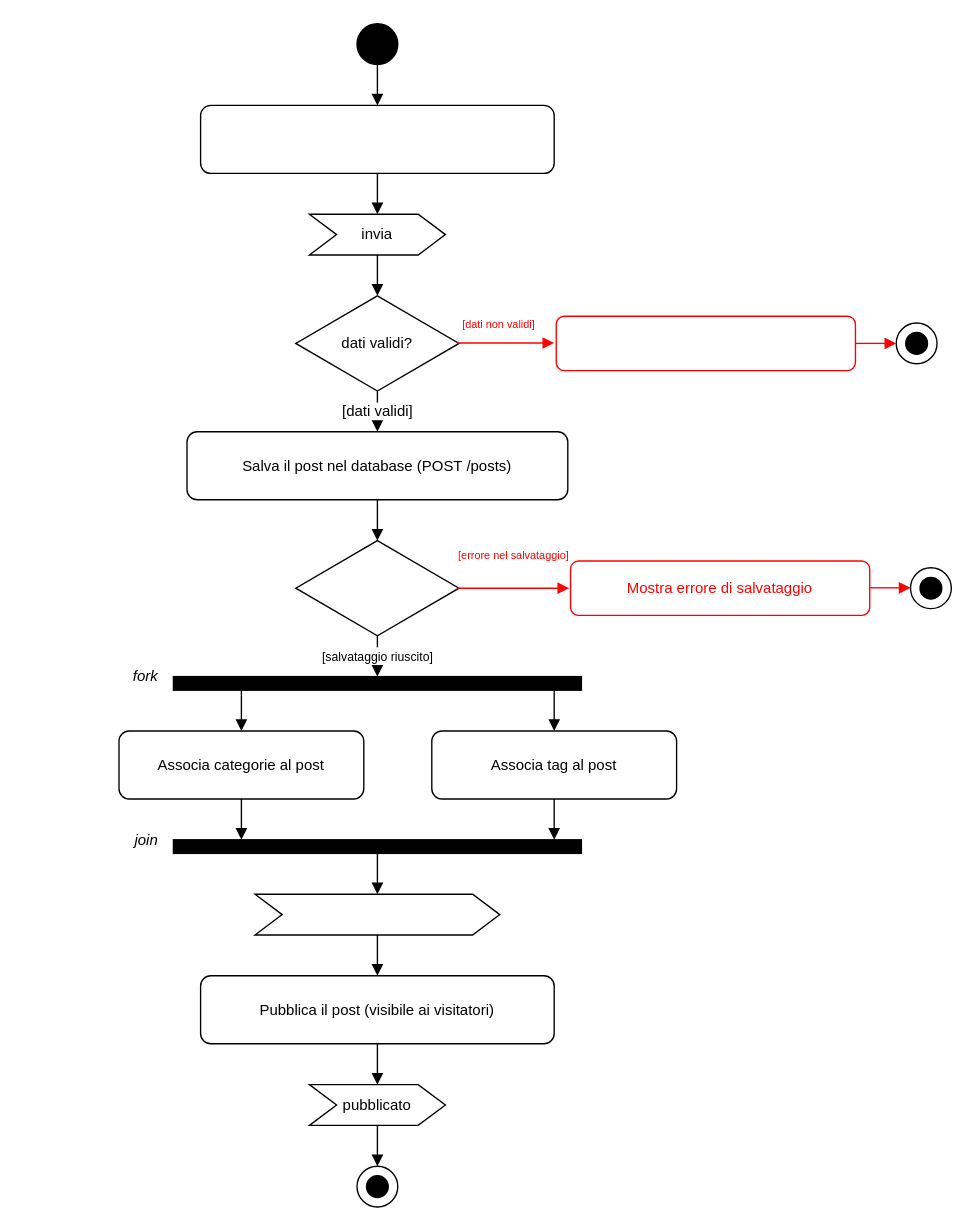
The diagram is 975 pixels wide and 1231 high, and some of its shapes have lost their labels. The shapes that lost their labels are listed below. From the top down, each one's centre as x and y in pixels, then its label:
point (376, 138): Compila form articolo (titolo, contenuto, categoria, tag)
point (705, 343): Mostra errore di validazione
point (376, 587): salvataggio riuscito?
point (377, 914): categorie e tag associati
